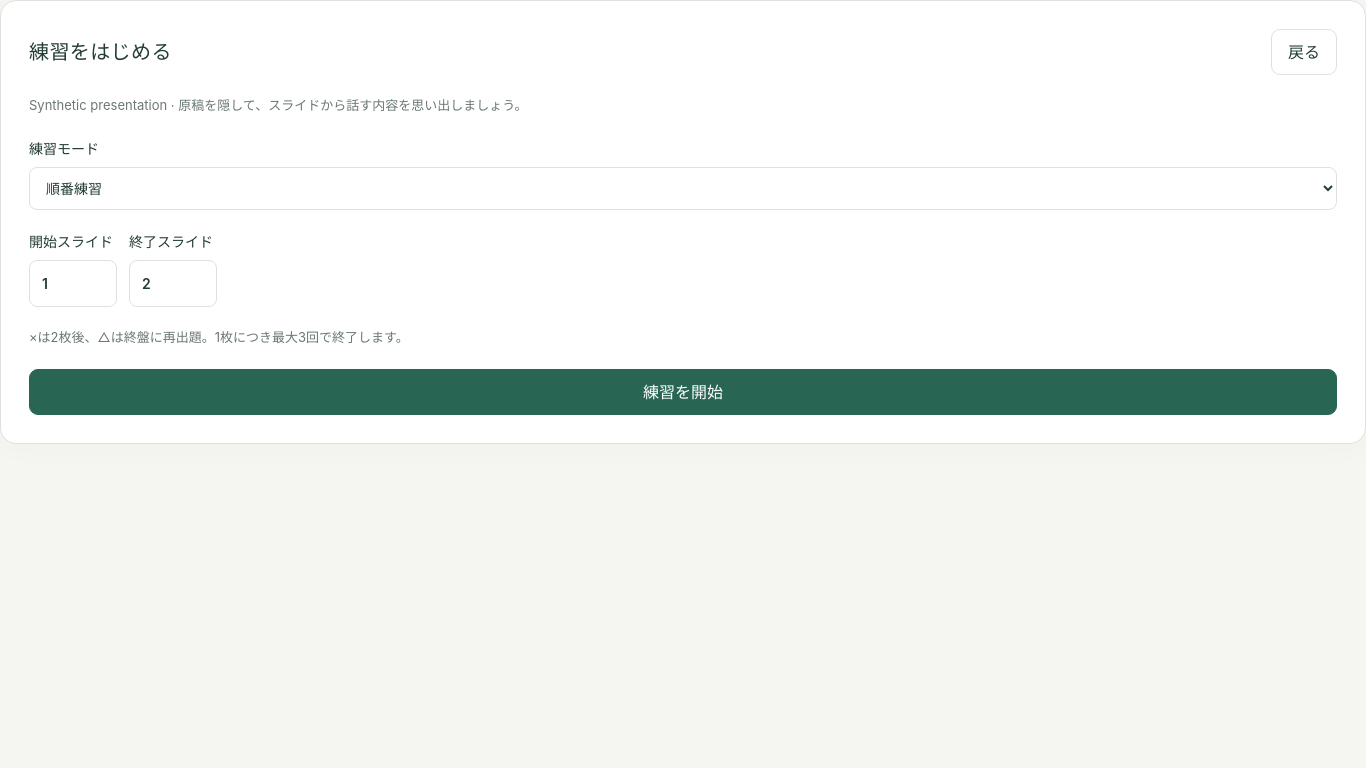
Test: practice screen › does not navigate away when saving an ungraded attempt fails
Click the button "練習を開始" at (683, 392), box [29,368,1337,415]
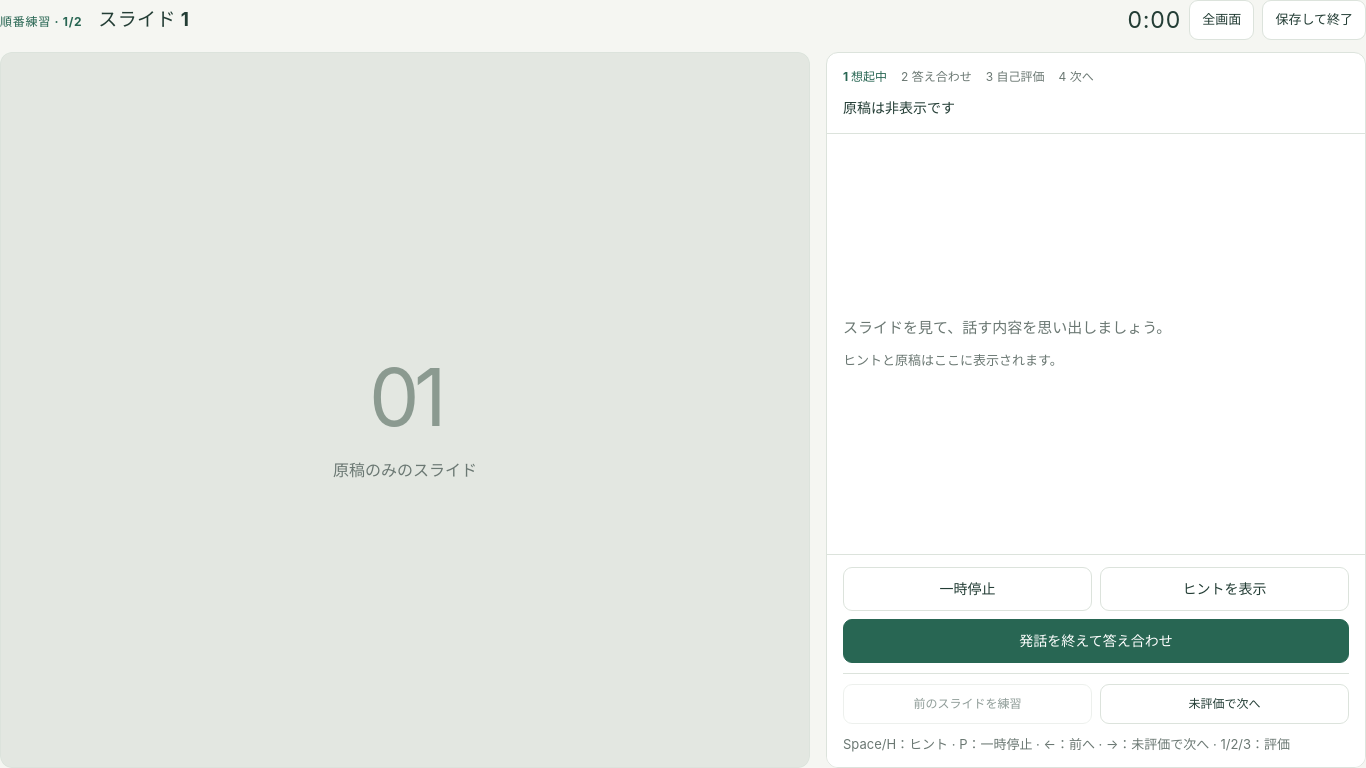
Check: the heading "スライド 1" is shown, box [98,4,189,36]
Click the button "未評価で次へ" at (1224, 704), box [1100,684,1349,724]
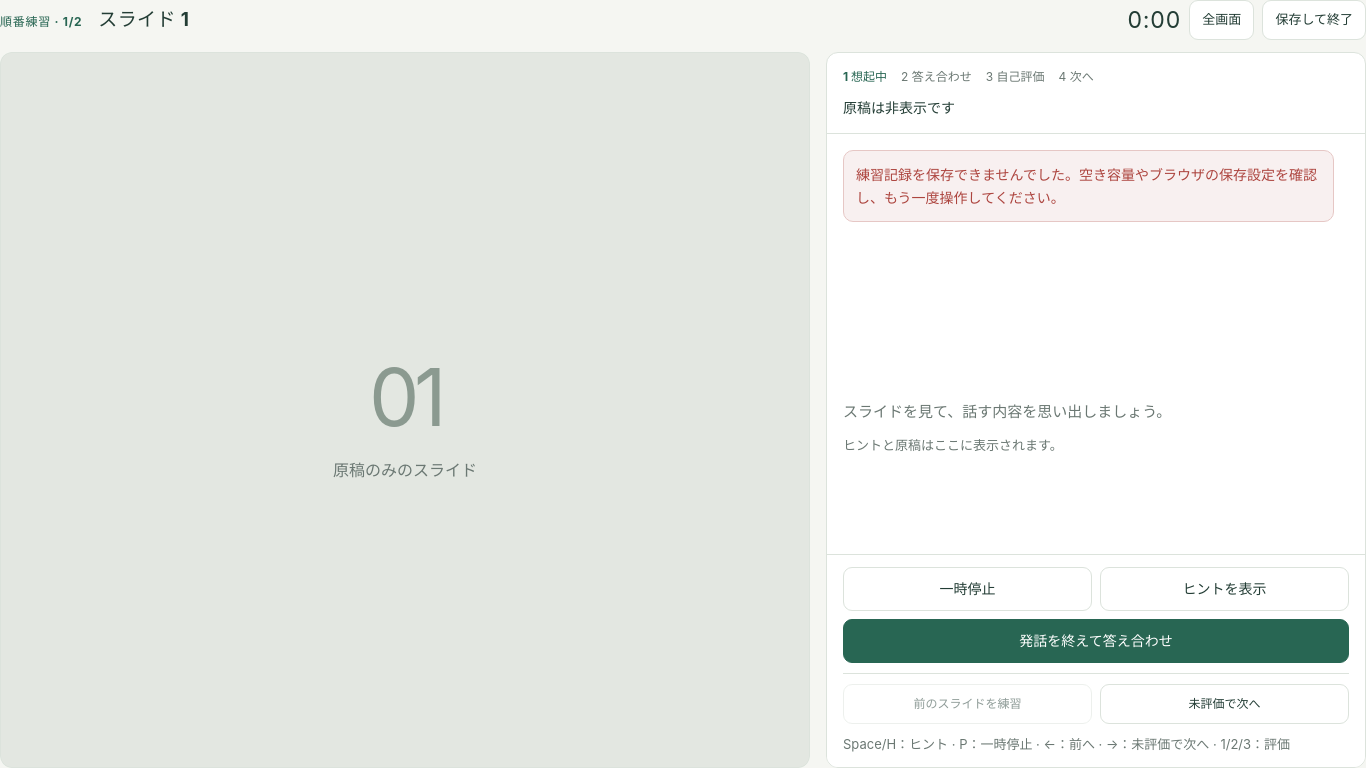
Check: the heading with test id "practice-slide-number" reads "スライド 1", box [98,4,189,36]
Check: the message "練習記録を保存できませんでした。空き容量やブラウザの保存設定を確認し、もう一度操作してください。" is shown, box [843,150,1334,222]
